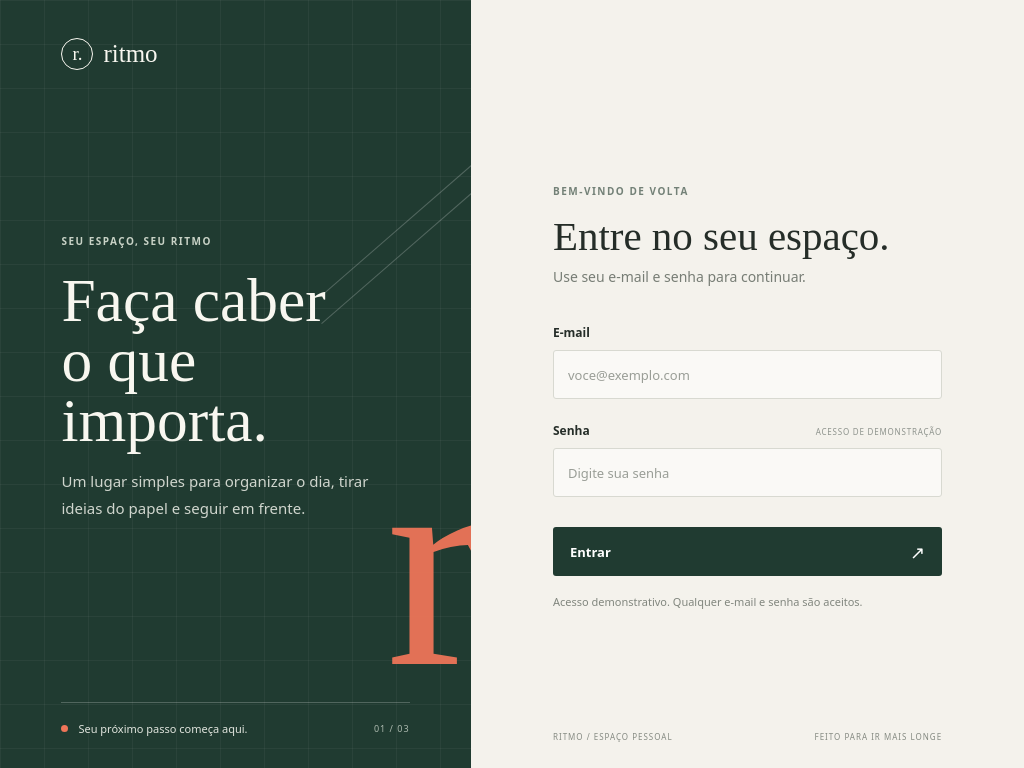
it: faz login, aciona a API e permite encerrar a sessão
The width and height of the screenshot is (1024, 768).
Type "ana@example.com" into the field labelled "E-mail" at (748, 375), box [553, 350, 942, 399]
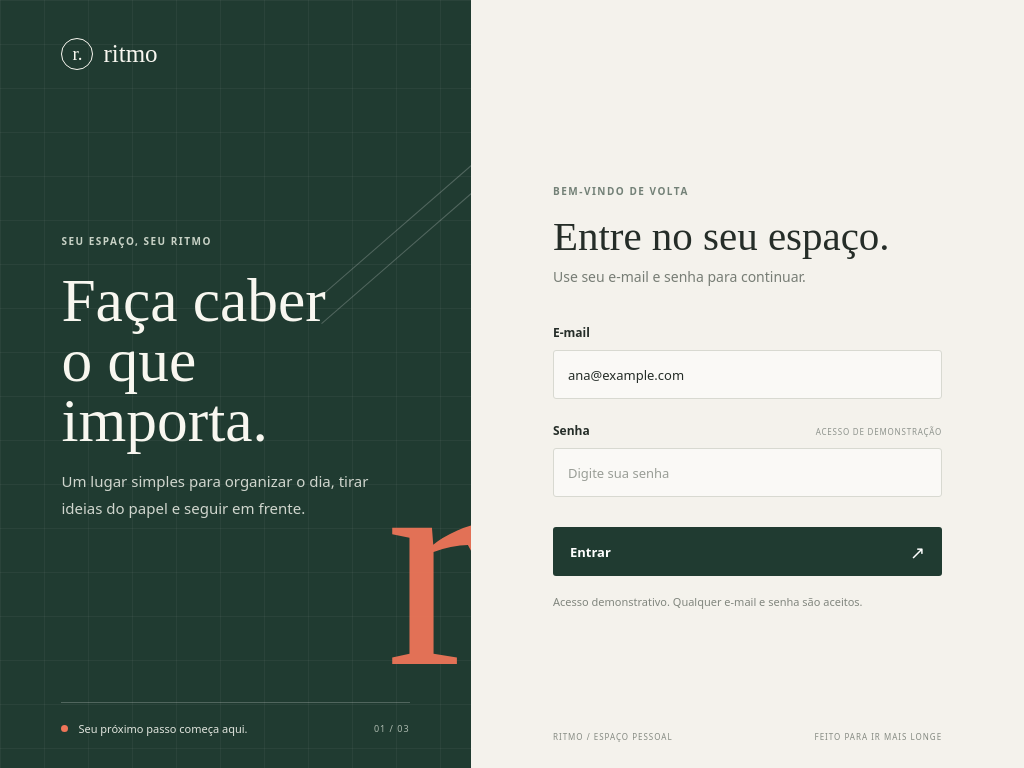
Type "senha" into the password field labelled "Senha" at (748, 473), box [553, 448, 942, 497]
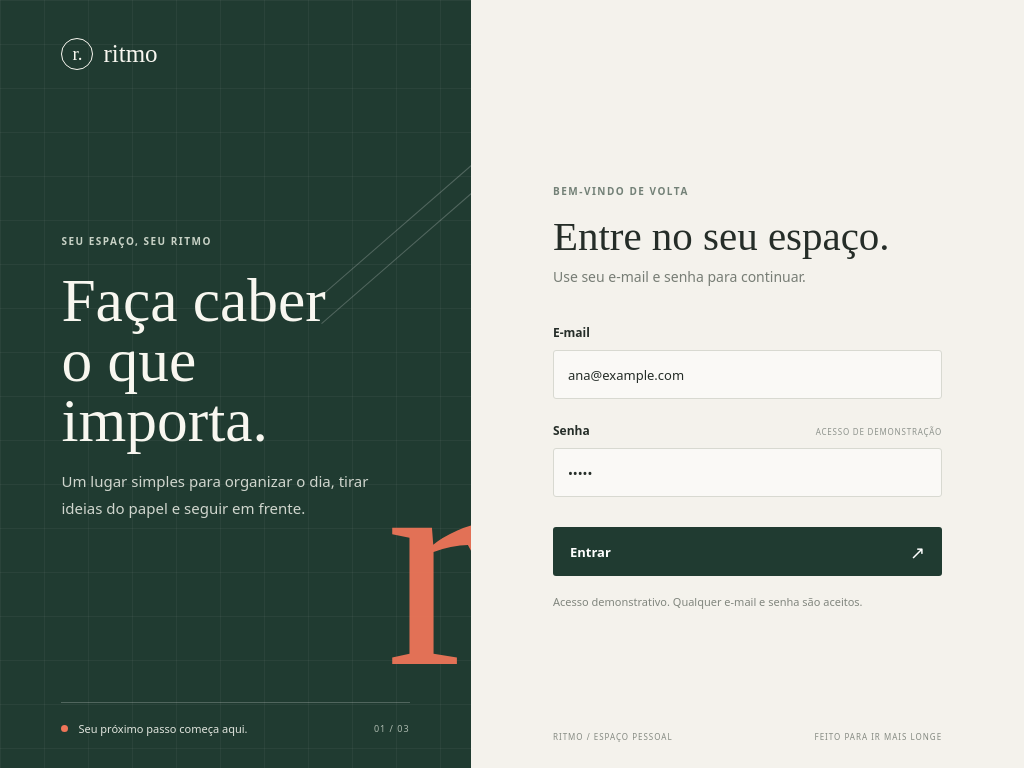
Click the button "Entrar ↗" at (590, 552), box [553, 527, 942, 576]
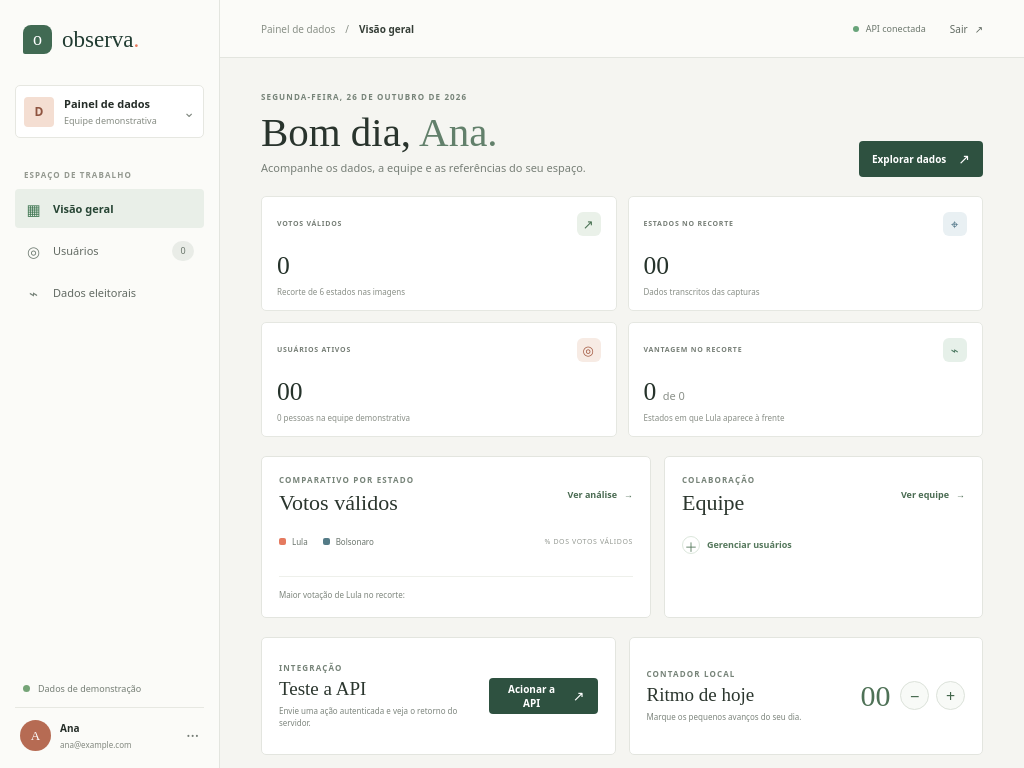
Expected: the heading "Bom dia, Ana." is shown, [261, 109, 498, 155]
Click the button "Acionar a API ↗" at (543, 696), box [489, 678, 598, 714]
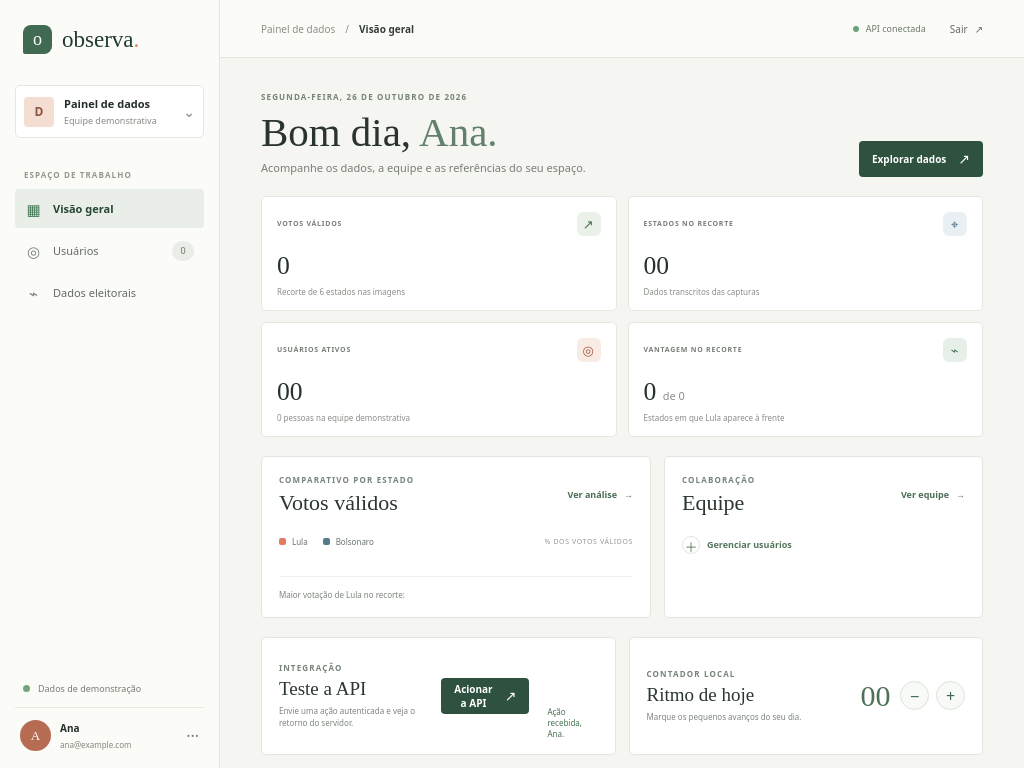
Expected: the message reads "Ação recebida, Ana.", [547, 706, 582, 739]
Click the button named "Aumentar contador" at (950, 696), box [936, 681, 965, 710]
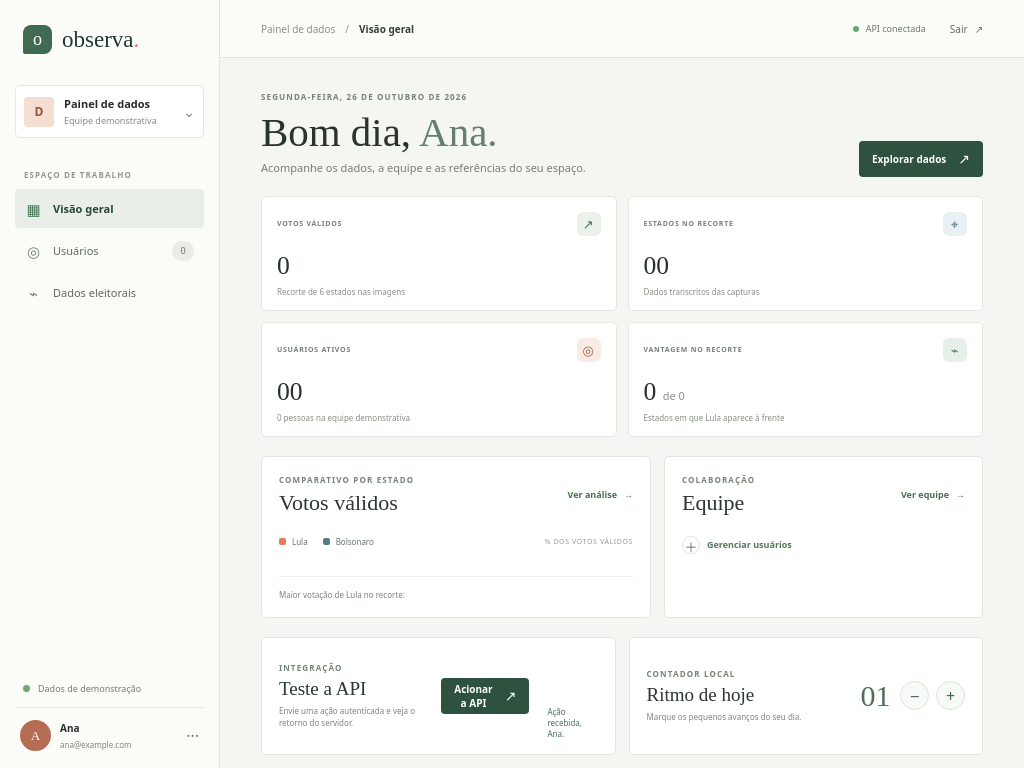
Expected: the text "01" is shown, [858, 679, 893, 713]
Click the button "Sair ↗" at (966, 28), box [950, 16, 983, 42]
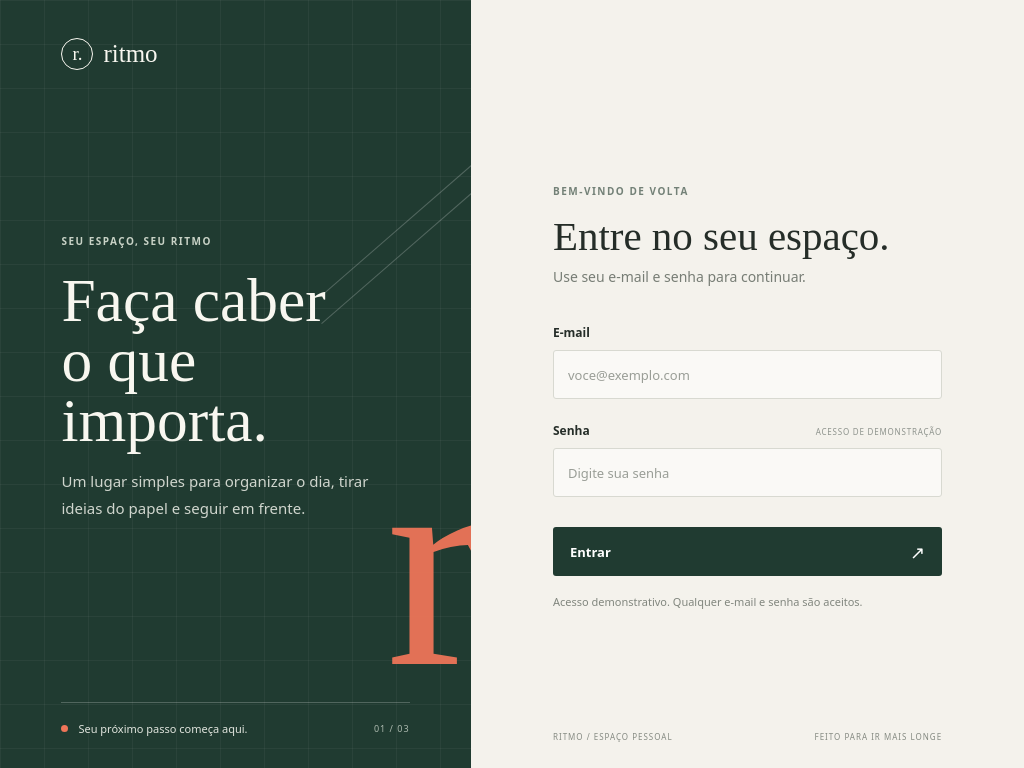
Expected: the heading "Entre no seu espaço." is shown, [553, 214, 942, 259]
